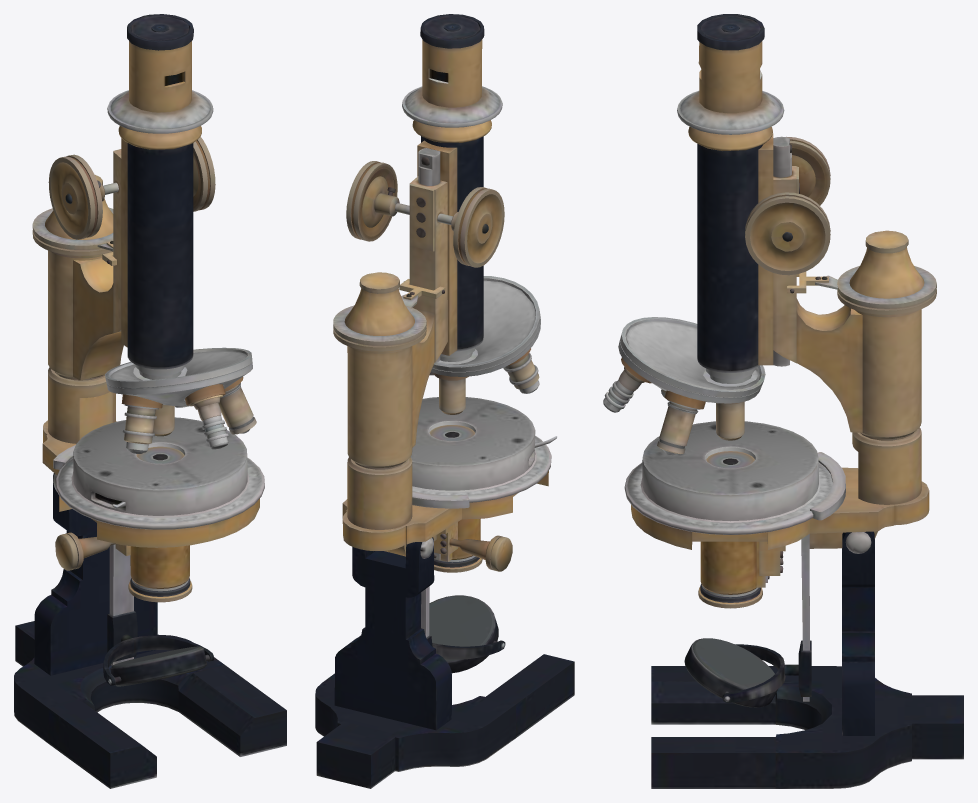
Rendered from vintage_microscope.glb.
The picture shows the model from 3 angles, left to right: view 1: azimuth 30°, elevation 25°; view 2: azimuth 150°, elevation 25°; view 3: azimuth 270°, elevation 25°; orthographic projection. The views are drawn at different scales.
Parts seen in each view (by area): view 1: vintage_microscope_rack_mount_support, vintage_microscope_eye_piece, vintage_microscope_base, vintage_microscope_revolver, vintage_microscope_adjustment, vintage_microscope_mirror_arm, vintage_microscope_condenser, vintage_microscope_mirror_base; view 2: vintage_microscope_rack_mount_support, vintage_microscope_base, vintage_microscope_eye_piece, vintage_microscope_adjustment, vintage_microscope_mirror_base, vintage_microscope_revolver, vintage_microscope_condenser, vintage_microscope_mirror_arm; view 3: vintage_microscope_rack_mount_support, vintage_microscope_base, vintage_microscope_eye_piece, vintage_microscope_adjustment, vintage_microscope_revolver, vintage_microscope_condenser, vintage_microscope_mirror_base, vintage_microscope_mirror_arm.
Boxes of the visible parts, box(x1,y1,x2,y2) form: vintage_microscope_rack_mount_support: box(32, 149, 264, 570); vintage_microscope_eye_piece: box(105, 14, 252, 388); vintage_microscope_base: box(14, 473, 286, 788); vintage_microscope_revolver: box(106, 362, 256, 453); vintage_microscope_adjustment: box(48, 136, 215, 239); vintage_microscope_mirror_arm: box(103, 544, 213, 685); vintage_microscope_condenser: box(128, 446, 192, 602); vintage_microscope_mirror_base: box(110, 646, 206, 686); vintage_microscope_rack_mount_support: box(333, 176, 556, 571); vintage_microscope_base: box(315, 537, 574, 788); vintage_microscope_eye_piece: box(402, 14, 540, 371); vintage_microscope_adjustment: box(346, 161, 504, 267); vintage_microscope_mirror_base: box(429, 595, 498, 673); vintage_microscope_revolver: box(429, 316, 540, 414); vintage_microscope_condenser: box(429, 425, 482, 572); vintage_microscope_mirror_arm: box(421, 586, 505, 659); vintage_microscope_rack_mount_support: box(624, 166, 936, 575); vintage_microscope_base: box(651, 531, 963, 788); vintage_microscope_eye_piece: box(620, 14, 791, 397); vintage_microscope_adjustment: box(745, 136, 830, 275); vintage_microscope_revolver: box(603, 338, 761, 455); vintage_microscope_condenser: box(698, 451, 769, 608); vintage_microscope_mirror_base: box(684, 638, 777, 707); vintage_microscope_mirror_arm: box(722, 534, 811, 702).
Bounding box in the file's own units: 0.1068 × 0.3996 × 0.1819.
2 materials, 2 textured.
